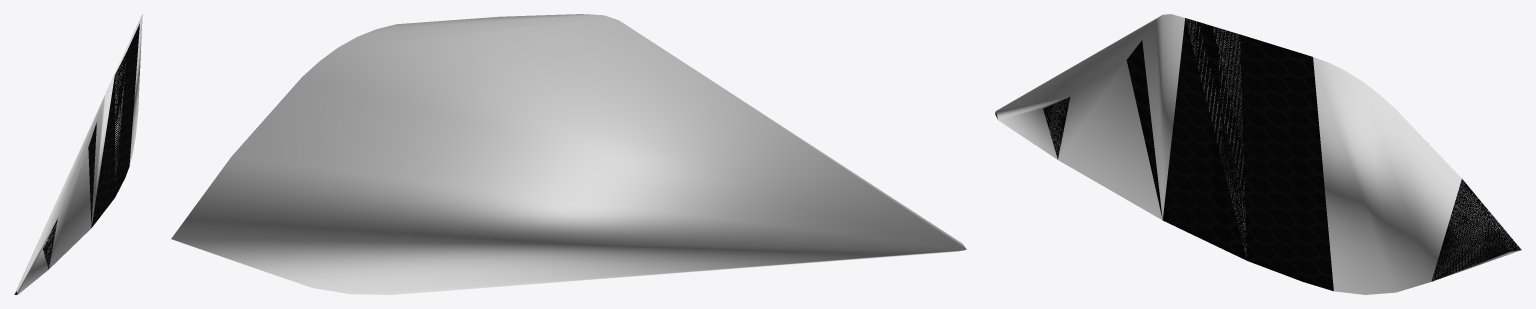
The picture shows the model from 3 angles, left to right: view 1: azimuth 30°, elevation 25°; view 2: azimuth 150°, elevation 25°; view 3: azimuth 270°, elevation 25°; orthographic projection. The views are drawn at different scales.
Visible parts, largest first — view 1: grille_eclipse_head_r_01_col, grille_eclipse_head_r_01; view 2: grille_eclipse_head_r_01_col; view 3: grille_eclipse_head_r_01_col, grille_eclipse_head_r_01.
Part boxes in pixels (x1=…): grille_eclipse_head_r_01_col: x1=15, y1=14, x2=142, y2=294; grille_eclipse_head_r_01: x1=14, y1=23, x2=139, y2=294; grille_eclipse_head_r_01_col: x1=171, y1=14, x2=966, y2=294; grille_eclipse_head_r_01_col: x1=995, y1=14, x2=1520, y2=294; grille_eclipse_head_r_01: x1=995, y1=18, x2=1521, y2=291.
Size of the model in its own units: 0.3689 by 0.1828 by 0.364.
Materials: 1 (1 with a texture image).
